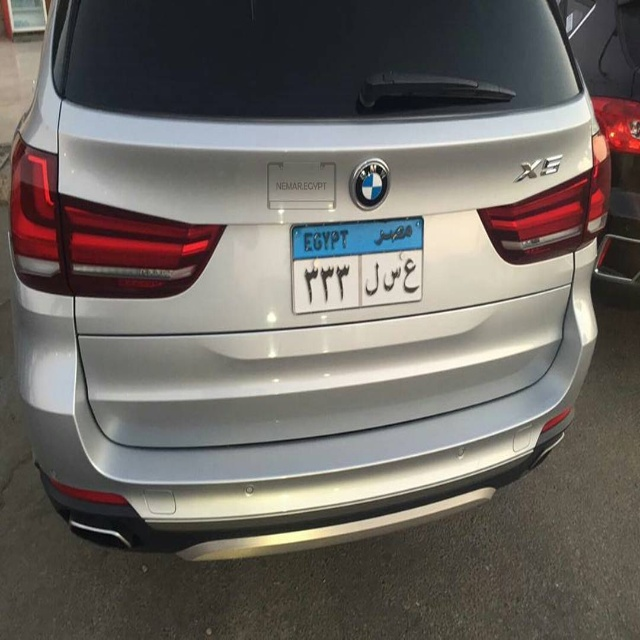License Plate: (284, 211, 434, 318)
